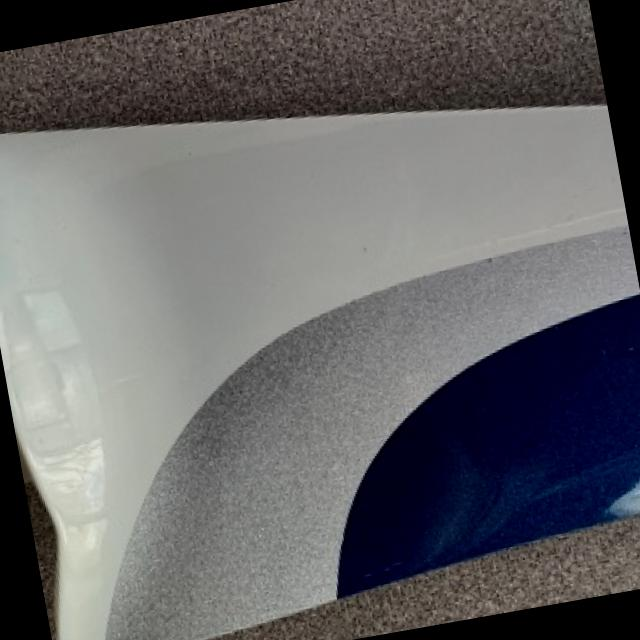healthy: (0, 106, 640, 640)
